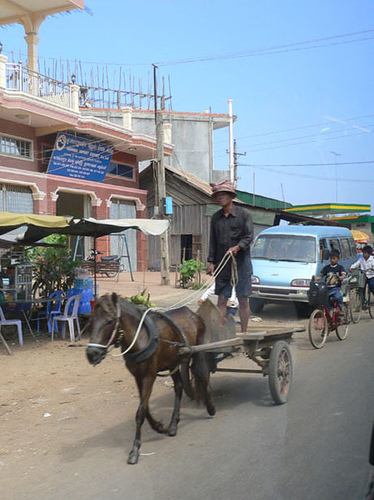horse: (84, 292, 216, 465)
